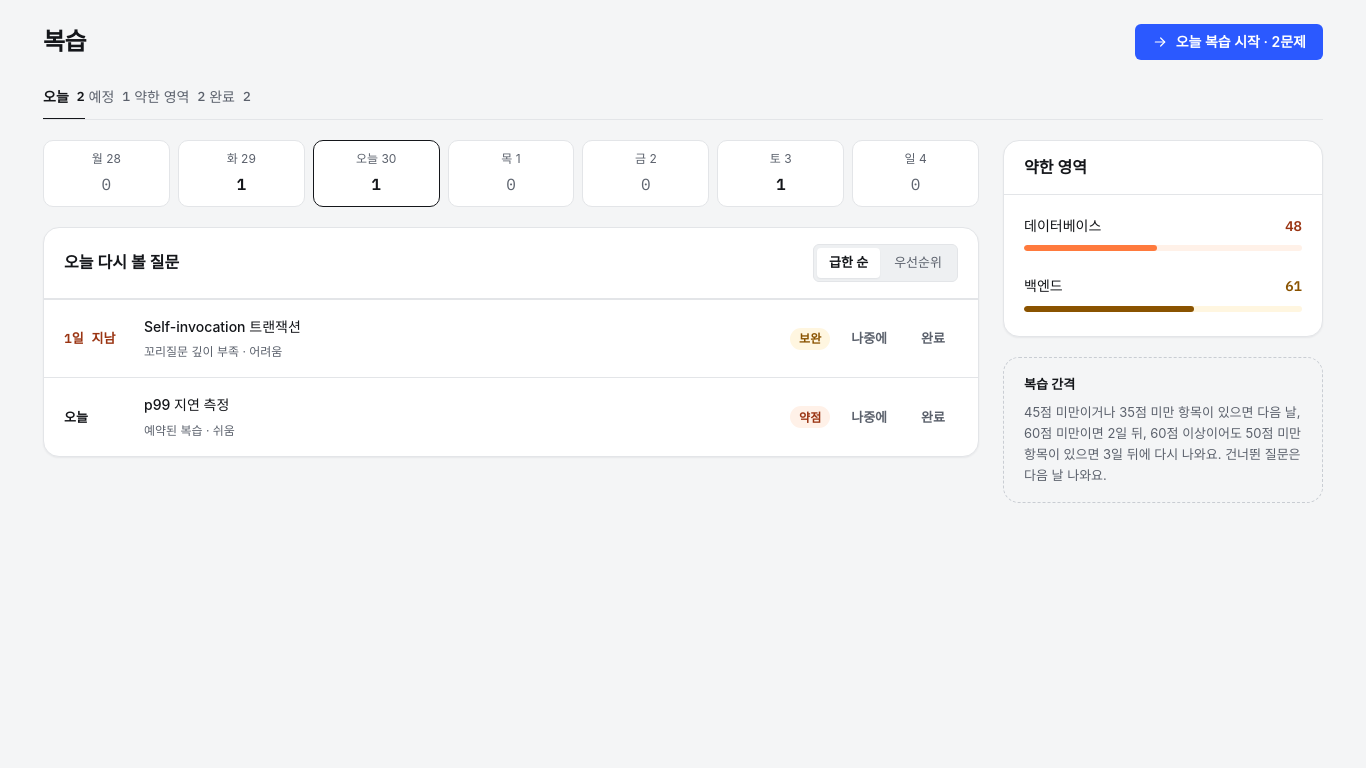
Test case: ReviewQueuePage › marks an item done and announces it
The width and height of the screenshot is (1366, 768).
Click the button "완료" in the row of "약점". click: [933, 417]
box: [908, 402, 958, 432]
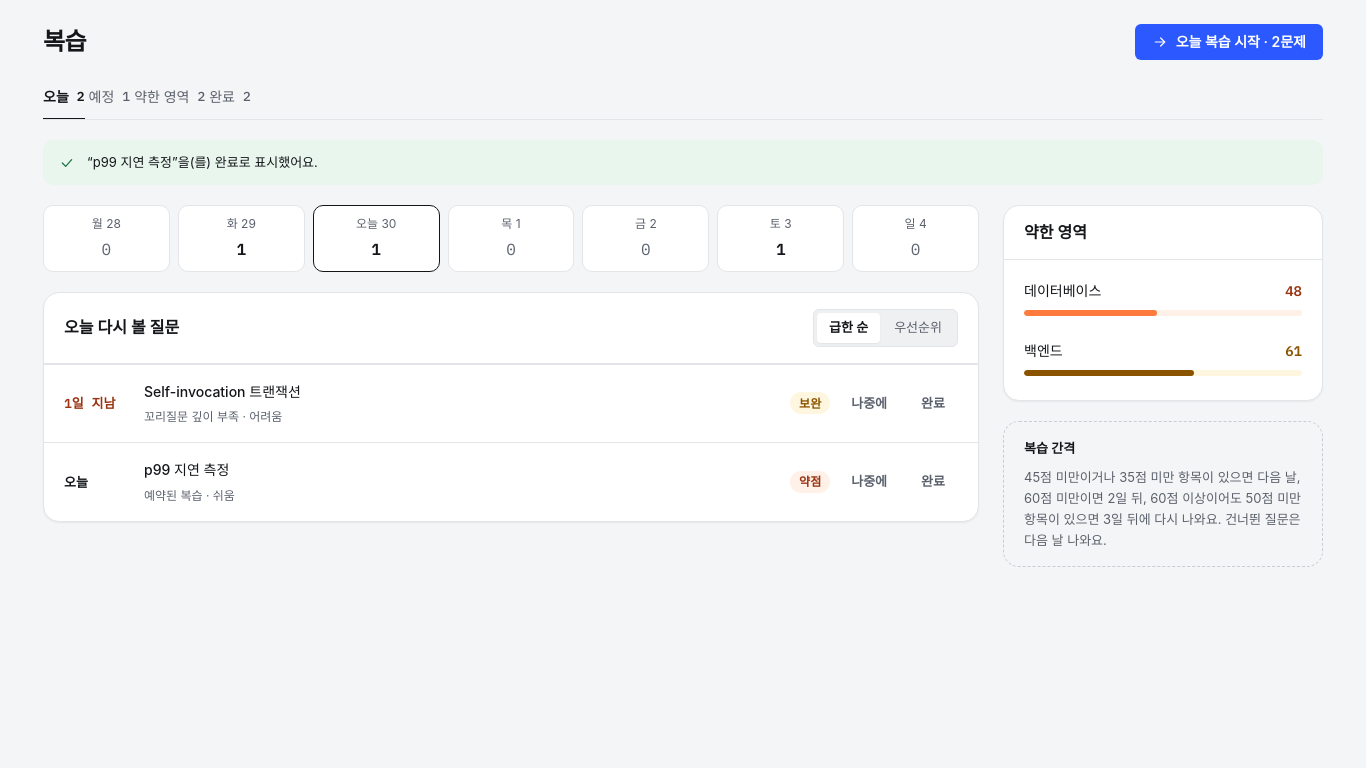
Result: the text "“p99 지연 측정”을(를) 완료로 표시했어요." is shown at [87, 152, 318, 173]
